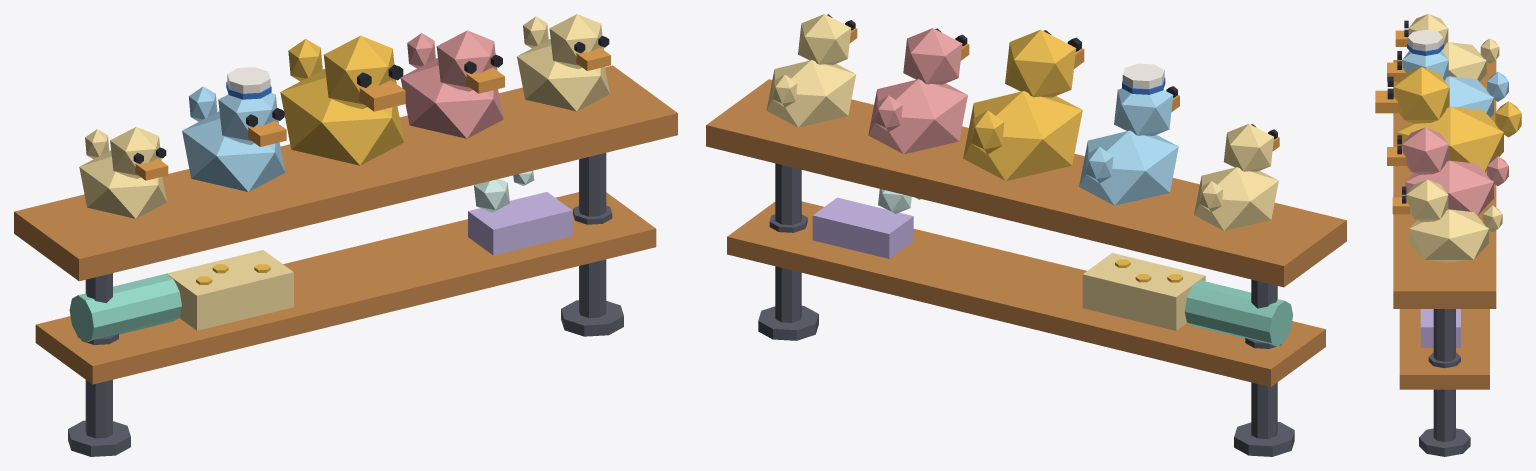
Rendered from CatCafe_Decor_RubberDuckRow.glb.
3 views of the same model, side by side, from view 1: azimuth 30°, elevation 25°; view 2: azimuth 150°, elevation 25°; view 3: azimuth 270°, elevation 25° (orthographic). The views are drawn at different scales.
Visible parts, largest first — view 1: CatCafe_Decor_RubberDuckRow; view 2: CatCafe_Decor_RubberDuckRow; view 3: CatCafe_Decor_RubberDuckRow.
Boxes of the visible parts, x1=… form: CatCafe_Decor_RubberDuckRow: x1=14, y1=14, x2=677, y2=456; CatCafe_Decor_RubberDuckRow: x1=706, y1=14, x2=1346, y2=456; CatCafe_Decor_RubberDuckRow: x1=1375, y1=14, x2=1521, y2=456.
Size of the model in its own units: 3.4 by 1.95 by 0.9097.
Materials: 1 (1 with a texture image).
